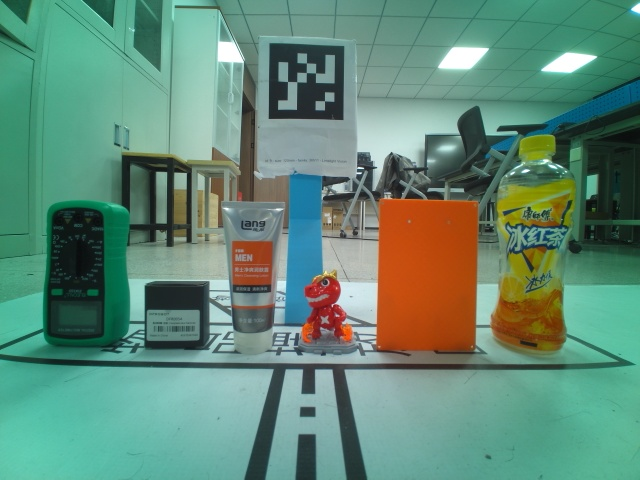banzi: (144, 280, 210, 351)
binghongcha: (295, 267, 356, 356)
dabao: (218, 199, 286, 355)
dianbiao: (490, 134, 577, 360)
hezi: (42, 199, 131, 347)
long: (377, 197, 479, 353)
